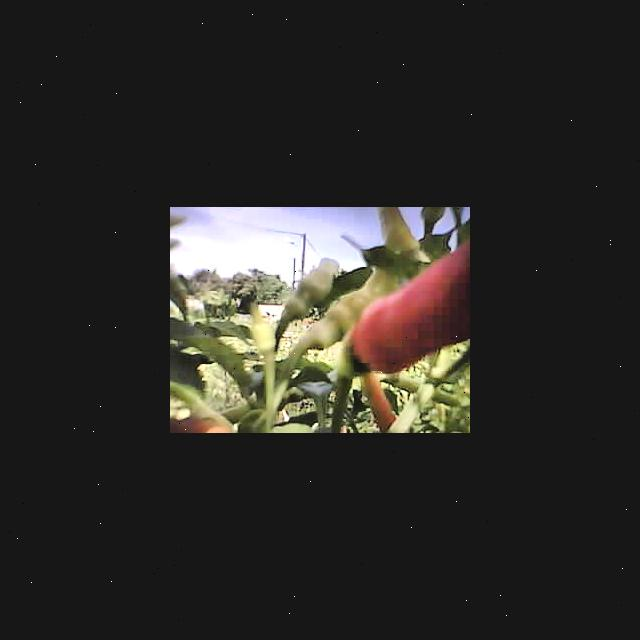Cabai: (392, 266, 470, 371)
